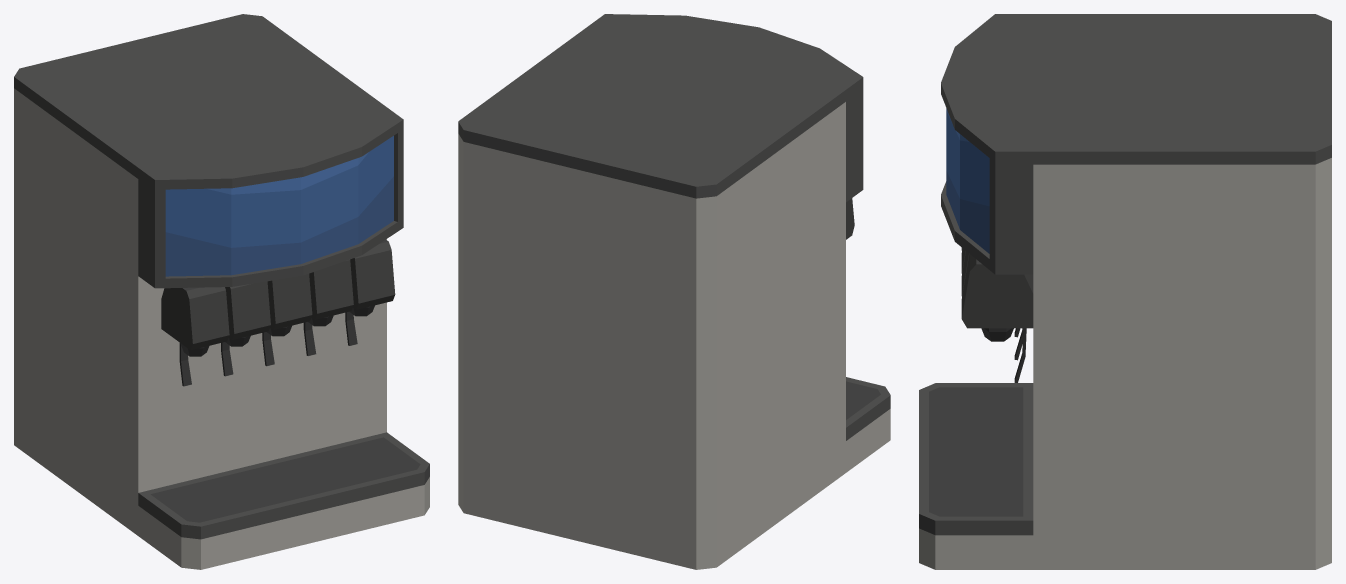
The model's file is SM_Props_Interior_Shop_Restaurant_SodaMachine.fbx.
3 renders of one model, left to right at view 1: azimuth 30°, elevation 25°; view 2: azimuth 150°, elevation 25°; view 3: azimuth 270°, elevation 25°, orthographic. The views are drawn at different scales.
Visible parts, largest first — view 1: SM_Props_Interior_Shop_Restaurant_SodaMachine; view 2: SM_Props_Interior_Shop_Restaurant_SodaMachine; view 3: SM_Props_Interior_Shop_Restaurant_SodaMachine.
Boxes of the visible parts, x1,y1,x2,y2 form: SM_Props_Interior_Shop_Restaurant_SodaMachine: [14, 14, 429, 569]; SM_Props_Interior_Shop_Restaurant_SodaMachine: [458, 14, 890, 569]; SM_Props_Interior_Shop_Restaurant_SodaMachine: [919, 14, 1331, 569].
Size of the model in its own units: 60 by 85 by 76.
